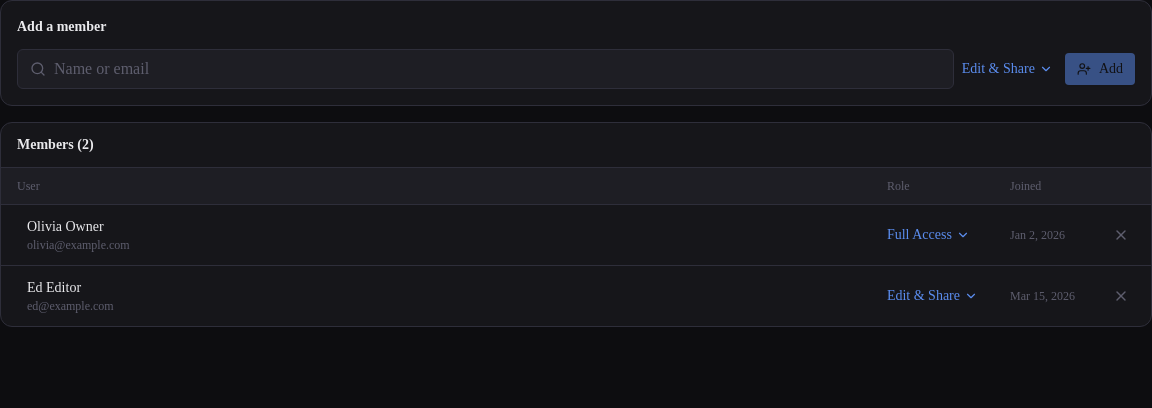
Test: adding a member › searches as you type, leaves out members, and adds with the chosen role
The width and height of the screenshot is (1152, 408).
Expected: the heading "Members (2)" is shown, top-left (1, 123), bottom-right (1151, 168)
Type "ni" into the field named "Find people by name or email" at (497, 69), box top-left (54, 57), bottom-right (941, 81)
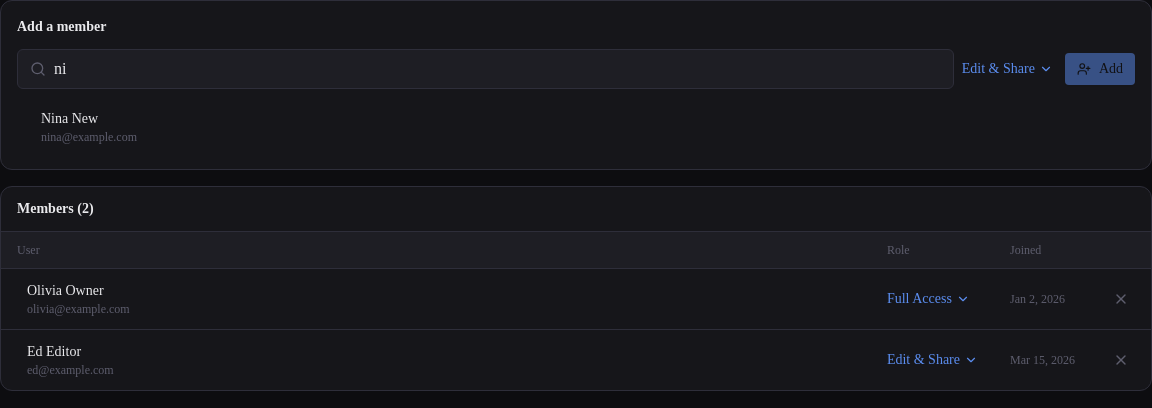
Click the text "Nina New" at (70, 118), box top-left (41, 111), bottom-right (98, 126)
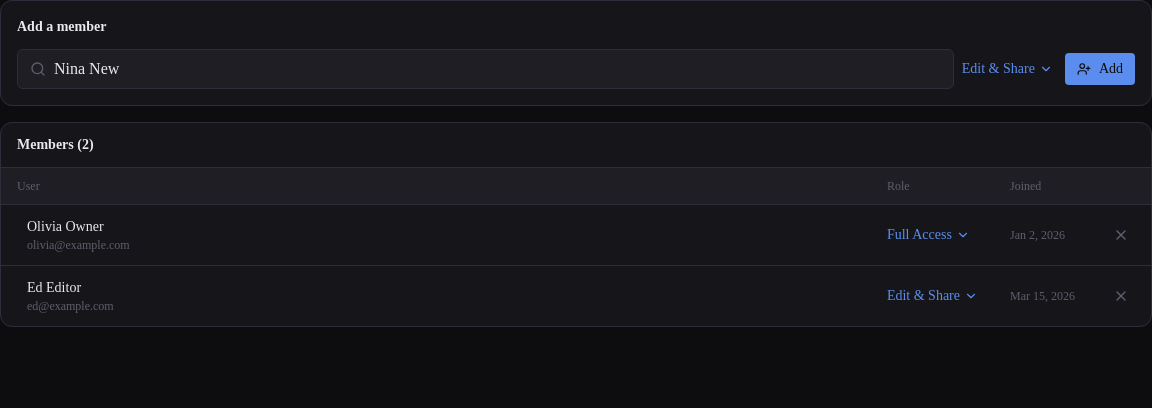
Click the button with aria-label "Role for the new member" at (1007, 69), box top-left (962, 59), bottom-right (1053, 79)
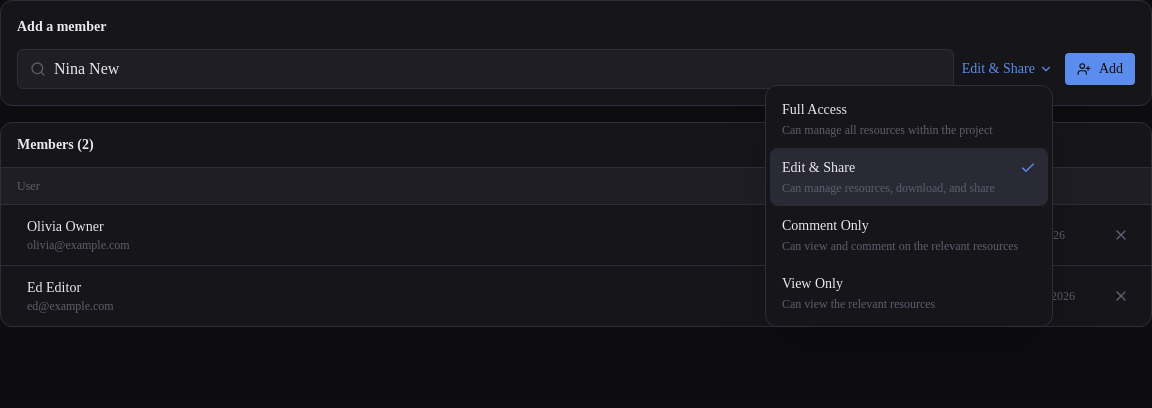
Click the menu item "Comment Only Can view and comment on the relevant resources" at (825, 226), box top-left (782, 218), bottom-right (1018, 253)
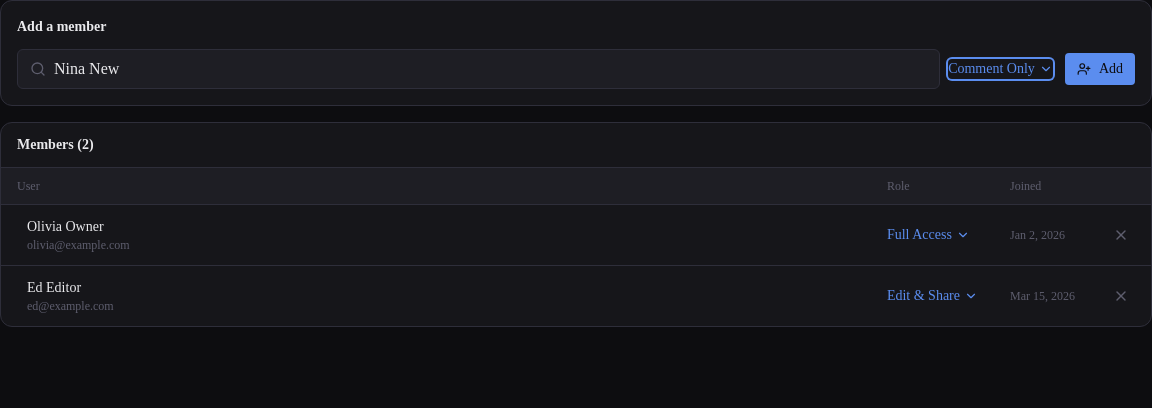
Click the button "Add" at (1100, 69), box top-left (1065, 53), bottom-right (1135, 85)
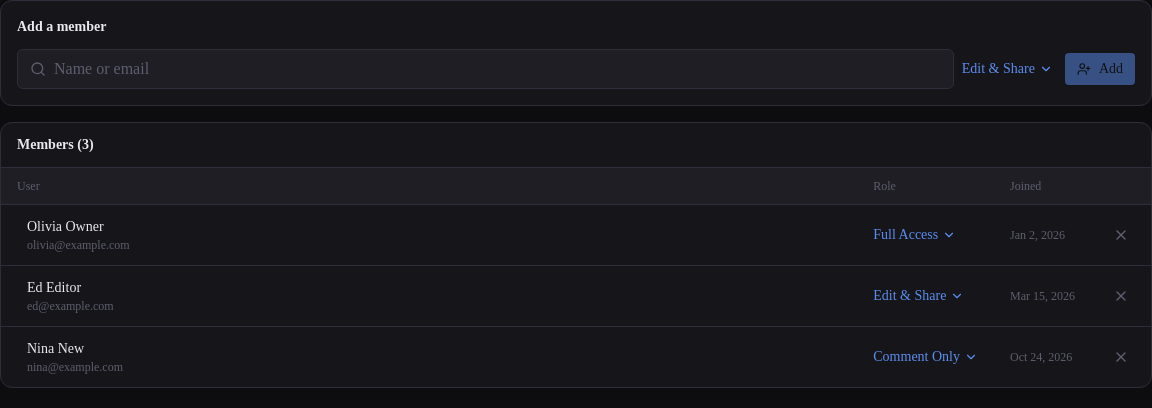
Expected: the heading "Members (3)" is shown, top-left (1, 123), bottom-right (1151, 168)
